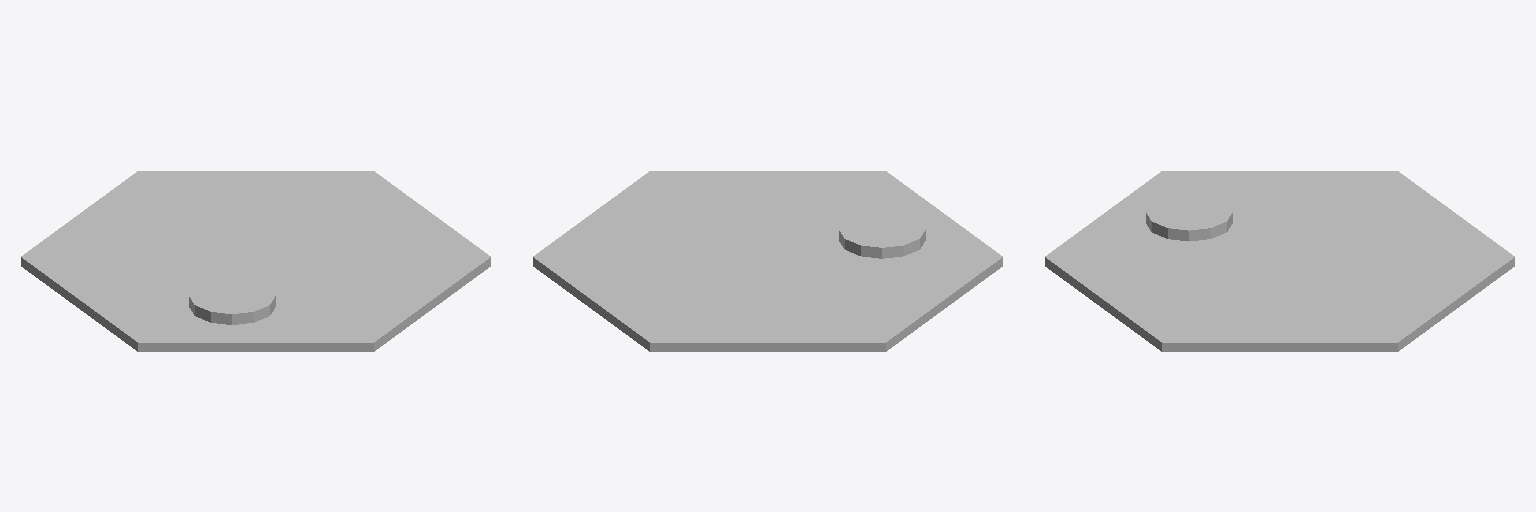
File: col.obj
3 views of the same model, side by side, from view 1: azimuth 30°, elevation 25°; view 2: azimuth 150°, elevation 25°; view 3: azimuth 270°, elevation 25° (orthographic).
Parts seen in each view (by area): view 1: Base_Cylinder.015; view 2: Base_Cylinder.015; view 3: Base_Cylinder.015.
Boxes of the visible parts, box(x1,y1,x2,y2) form: Base_Cylinder.015: box(21, 171, 490, 351); Base_Cylinder.015: box(533, 171, 1002, 351); Base_Cylinder.015: box(1045, 171, 1514, 351).
Bounding box in the file's own units: 3.98 × 0.2178 × 4.6.